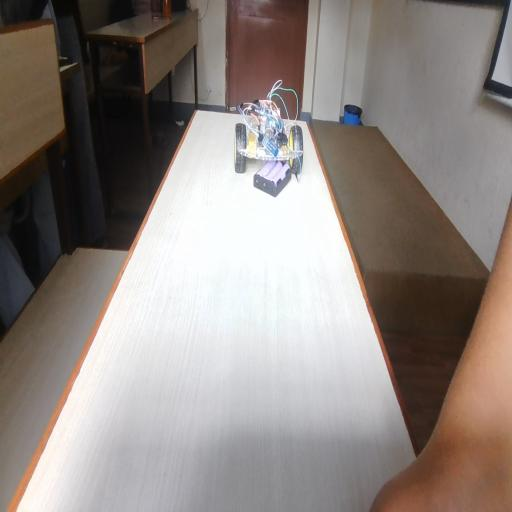car: (232, 75, 322, 197)
